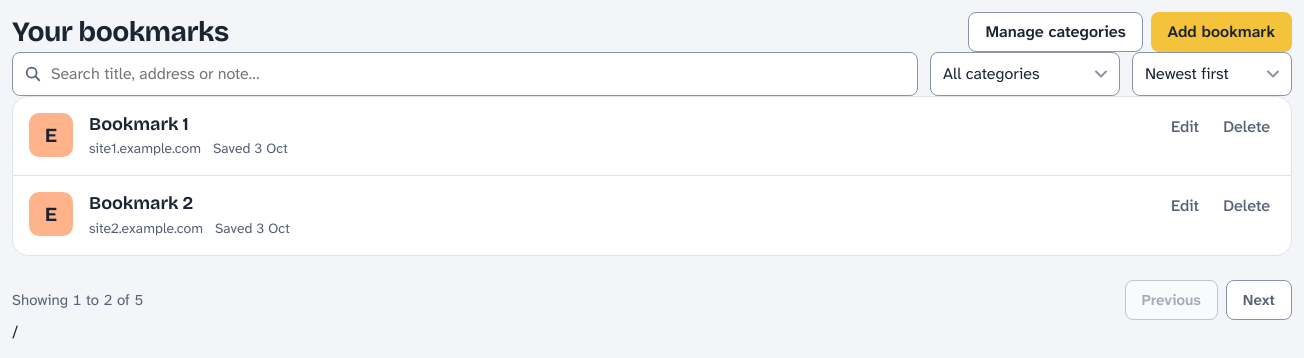
BookmarksPage › pages with Previous and Next, which switch off at the ends
expect the link "Bookmark 1" is shown: met, box [89, 113, 189, 135]
expect the text "Showing 1 to 2 of 5" is shown: met, box [12, 288, 143, 311]
Step 1. Click the button "Next" → {"x": 1259, "y": 300}, box [1226, 280, 1292, 320]
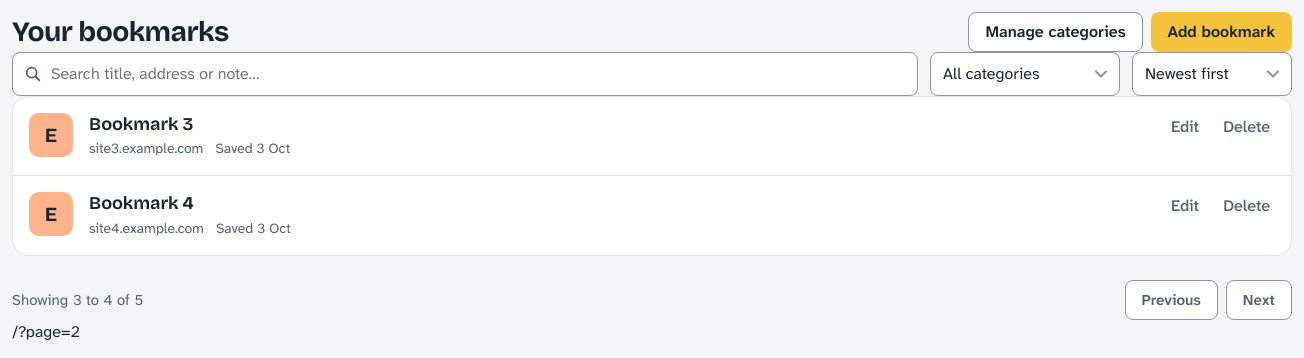
expect the link "Bookmark 3" is shown: met, box [89, 113, 193, 135]
expect the text with test id "address" reads "/?page=2": met, box [12, 321, 80, 342]
expect the button "Previous" is enabled: met, box [1125, 280, 1218, 320]
Step 2. Click the button "Next" → {"x": 1259, "y": 300}, box [1226, 280, 1292, 320]
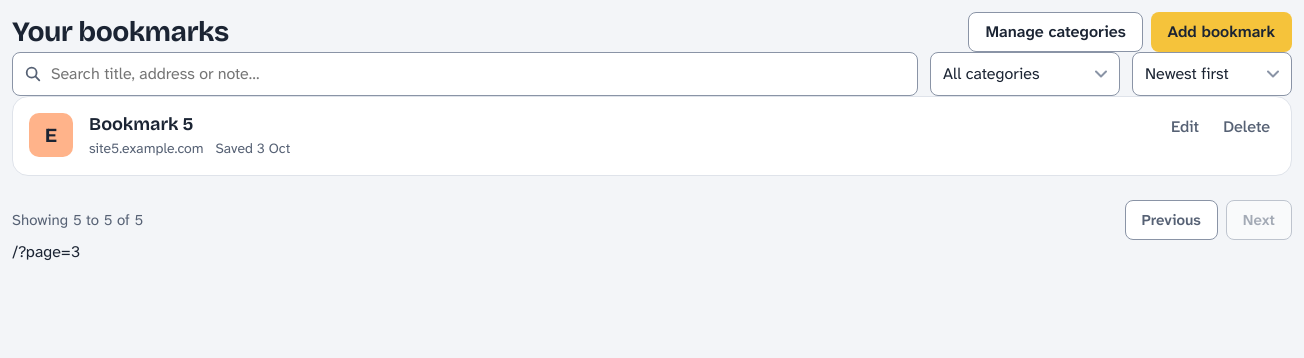
expect the link "Bookmark 5" is shown: met, box [89, 113, 193, 135]
expect the text "Showing 5 to 5 of 5" is shown: met, box [12, 209, 143, 232]
expect the button "Next" is disabled: met, box [1226, 200, 1292, 240]
Step 3. Click the button "Previous" → {"x": 1171, "y": 220}, box [1125, 200, 1218, 240]
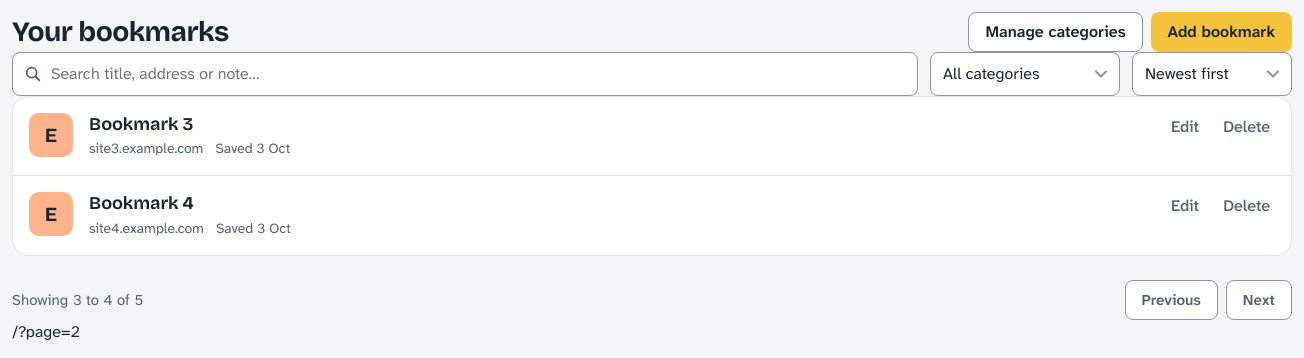
expect the link "Bookmark 3" is shown: met, box [89, 113, 193, 135]
